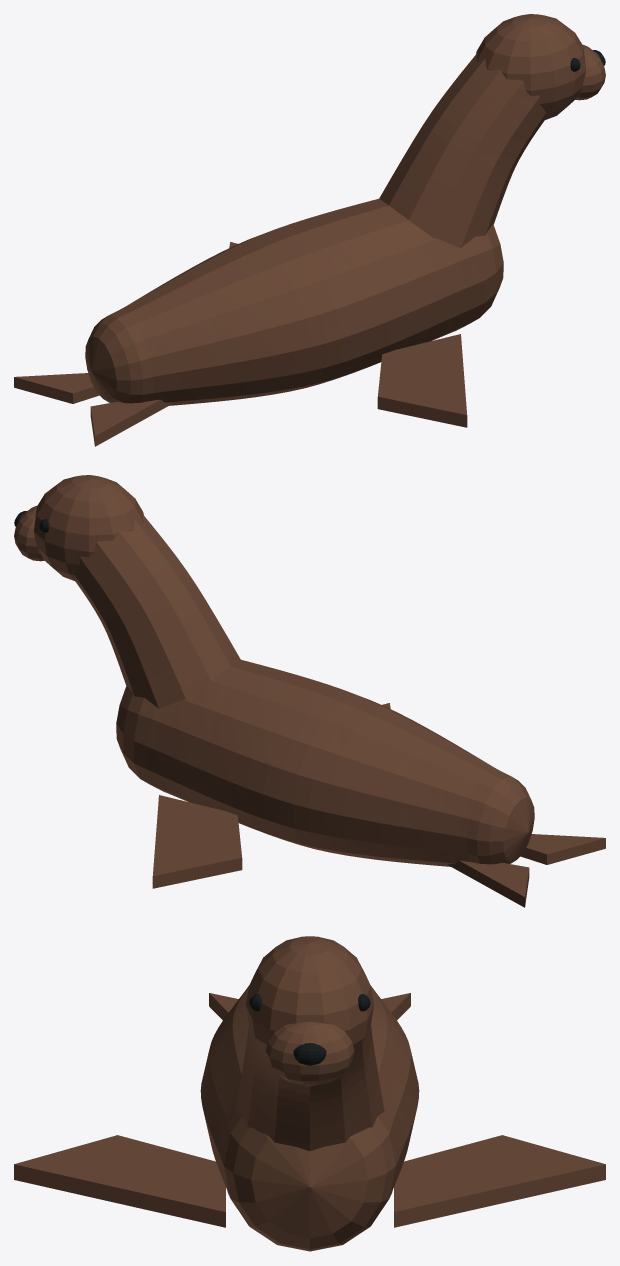
The model's file is california-sea-lion.dae.
3 views of the same model, one above another, from view 1: azimuth 30°, elevation 25°; view 2: azimuth 150°, elevation 25°; view 3: azimuth 270°, elevation 25° (orthographic). The views are drawn at different scales.
Parts seen in each view (by area): view 1: part1-node; view 2: part1-node; view 3: part1-node, part0-node.
Part boxes in pixels (x1,y1,x2,y2): part1-node: (14, 14, 605, 446); part1-node: (14, 475, 605, 907); part1-node: (14, 936, 605, 1251); part0-node: (249, 994, 370, 1065).
Bounding box in the file's own units: 2 × 1.5 × 1.06.
